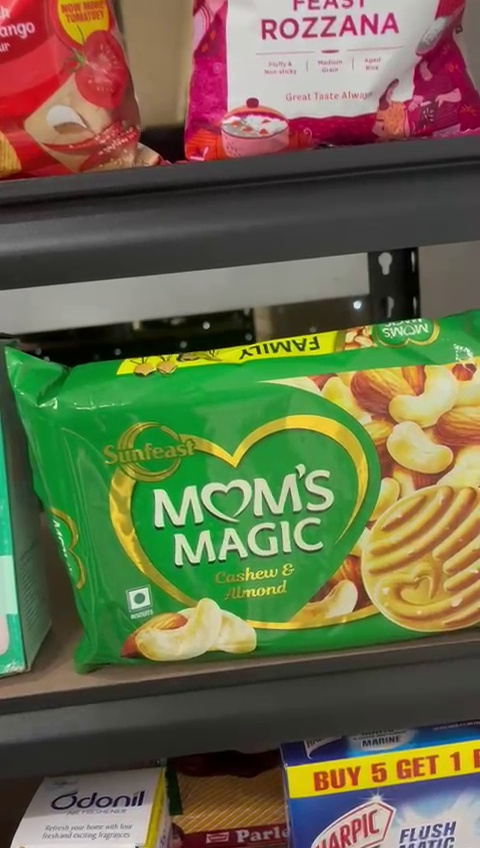Moms magic: (22, 349, 480, 651)
